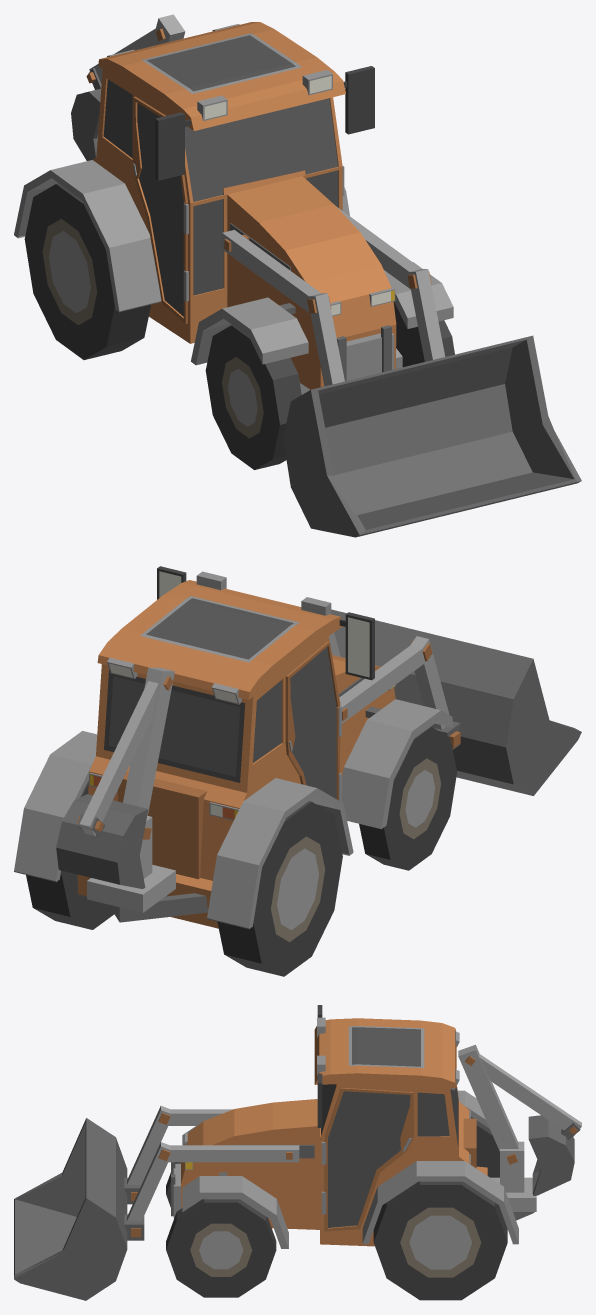
The model's file is kar6_1.fbx.
3 views of the same model, one above another, from view 1: azimuth 30°, elevation 25°; view 2: azimuth 150°, elevation 25°; view 3: azimuth 270°, elevation 25° (orthographic). The views are drawn at different scales.
Visible parts, largest first — view 1: Boole_1, Cube_5_2, Cylinder_5, Cylinder_2, Cube_3_2, Cube_14, Cube_5, Cylinder; view 2: Boole_1, Cube_5_2, Cylinder_5, Cylinder_2, Cube_5, Cube_4, Cube_3, Cylinder_1, Cube_14, Cube_3_2; view 3: Boole_1, Cube_5_2, Cylinder_1, Cylinder, Cube_14, Cube_5, Cube_3_2, Cube_3, Cube_4, Cylinder_5.
Part boxes in pixels (<box>): Boole_1: <box>14,22,453,394</box>; Cube_5_2: <box>283,335,581,537</box>; Cylinder_5: <box>24,183,150,359</box>; Cylinder_2: <box>205,325,301,469</box>; Cube_3_2: <box>307,269,445,386</box>; Cube_14: <box>222,206,421,313</box>; Cube_5: <box>71,68,101,160</box>; Cylinder: <box>393,302,454,367</box>; Boole_1: <box>14,566,452,928</box>; Cube_5_2: <box>331,609,581,795</box>; Cylinder_5: <box>217,801,342,976</box>; Cylinder_2: <box>359,726,457,870</box>; Cube_5: <box>56,794,148,888</box>; Cube_4: <box>79,676,172,836</box>; Cube_3: <box>123,667,174,839</box>; Cylinder_1: <box>26,780,114,929</box>; Cube_14: <box>339,645,423,723</box>; Cube_3_2: <box>329,632,449,729</box>; Boole_1: <box>171,1005,536,1248</box>; Cube_5_2: <box>14,1118,144,1300</box>; Cylinder_1: <box>373,1181,507,1300</box>; Cylinder: <box>166,1199,276,1297</box>; Cube_14: <box>168,1109,299,1162</box>; Cube_5: <box>528,1115,580,1195</box>; Cube_3_2: <box>127,1106,173,1221</box>; Cube_3: <box>458,1044,518,1164</box>; Cube_4: <box>465,1054,581,1136</box>; Cylinder_5: <box>470,1116,499,1177</box>.
Size of the model in its own units: 213 by 260 by 597.
